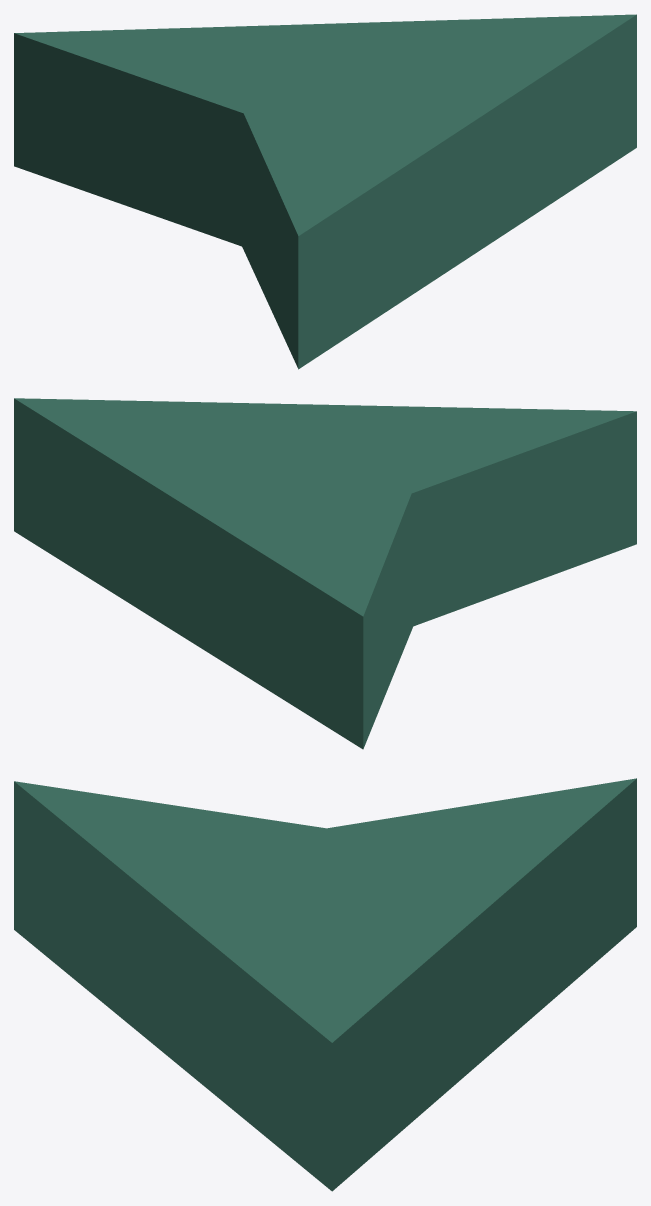
File: directional-generic-marker.dae
3 renders of one model, top to bottom at view 1: azimuth 30°, elevation 25°; view 2: azimuth 150°, elevation 25°; view 3: azimuth 270°, elevation 25°, orthographic. The views are drawn at different scales.
Parts seen in each view (by area): view 1: Box; view 2: Box; view 3: Box.
Part boxes in pixels (bbox=[...]): Box: bbox=[14, 14, 636, 369]; Box: bbox=[14, 398, 636, 749]; Box: bbox=[14, 778, 636, 1191].
Size of the model in its own units: 1.01 by 0.2634 by 0.9999.
